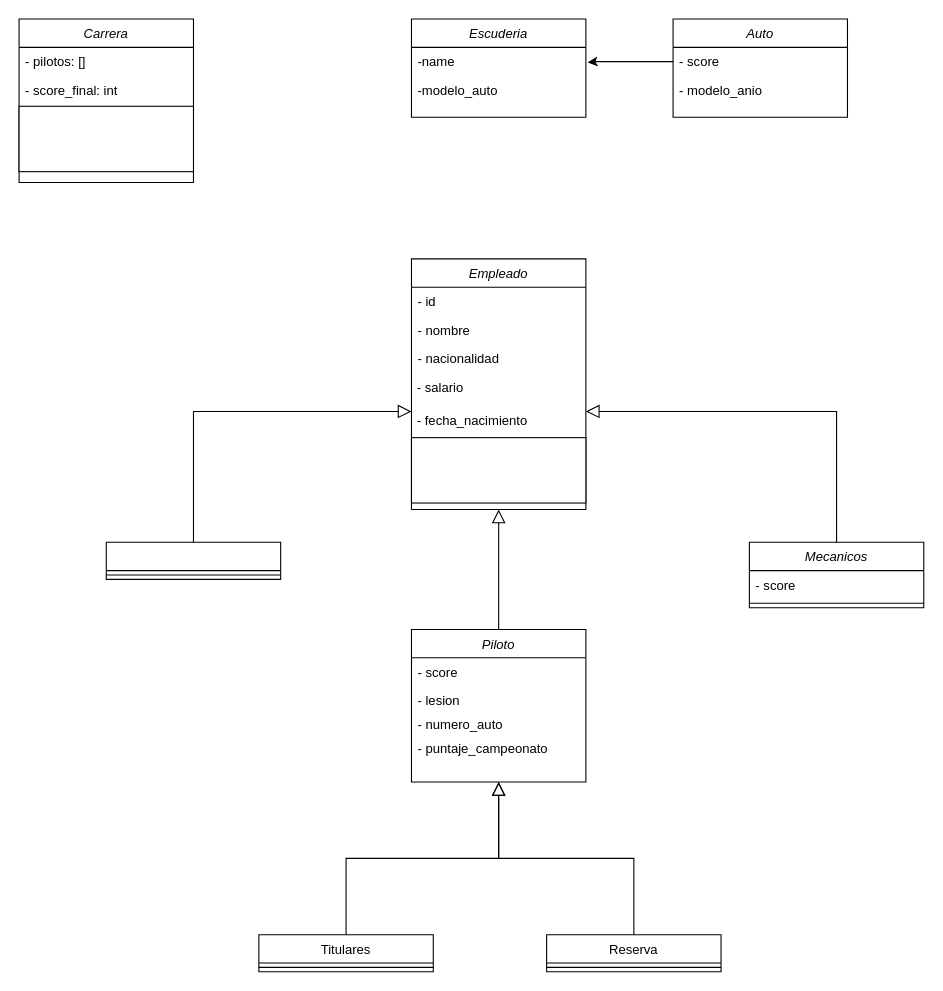
Some shapes in this 943 by 991 pixel diagram are drawn without their labels. Here are the shapes that lost their labels. From the top down, the centre of each, then its label:
(x=105, y=138): - calculo_score
(x=193, y=560): Director de Equipo
